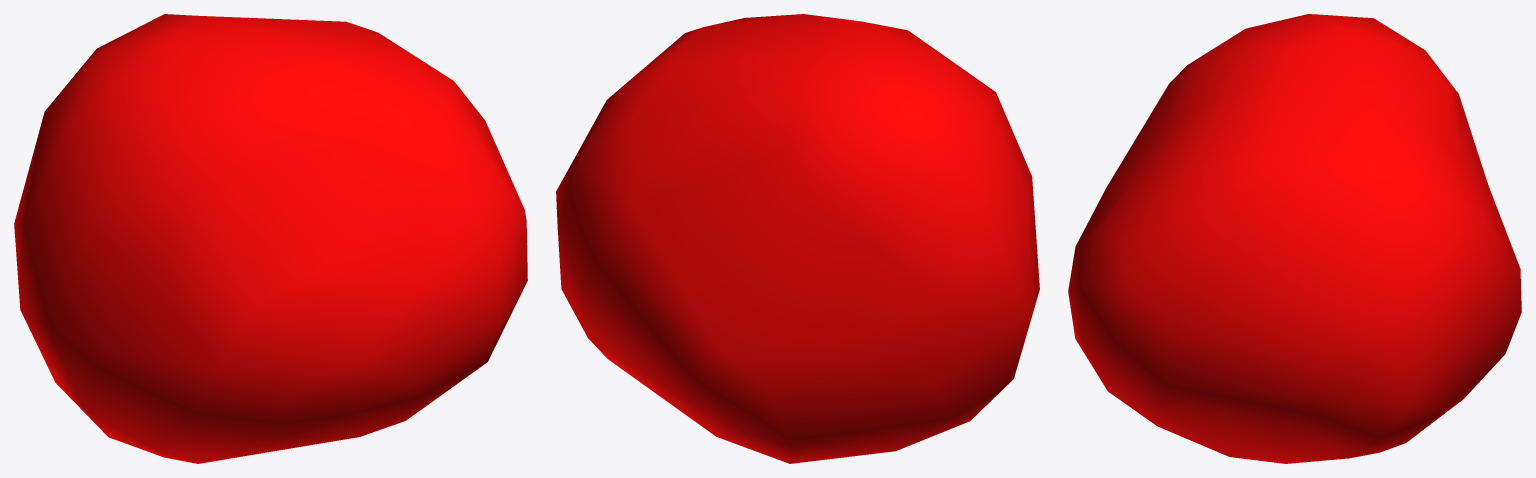
File: vesicle_a_reduce.dae
3 views of the same model, side by side, from view 1: azimuth 30°, elevation 25°; view 2: azimuth 150°, elevation 25°; view 3: azimuth 270°, elevation 25° (orthographic). The views are drawn at different scales.
Visible parts, largest first — view 1: vesicle_a_reduce; view 2: vesicle_a_reduce; view 3: vesicle_a_reduce.
Part boxes in pixels (x1,y1,x2,y2): vesicle_a_reduce: [14, 14, 527, 463]; vesicle_a_reduce: [556, 14, 1039, 463]; vesicle_a_reduce: [1068, 14, 1521, 463].
Bounding box in the file's own units: 437 × 383 × 403.
